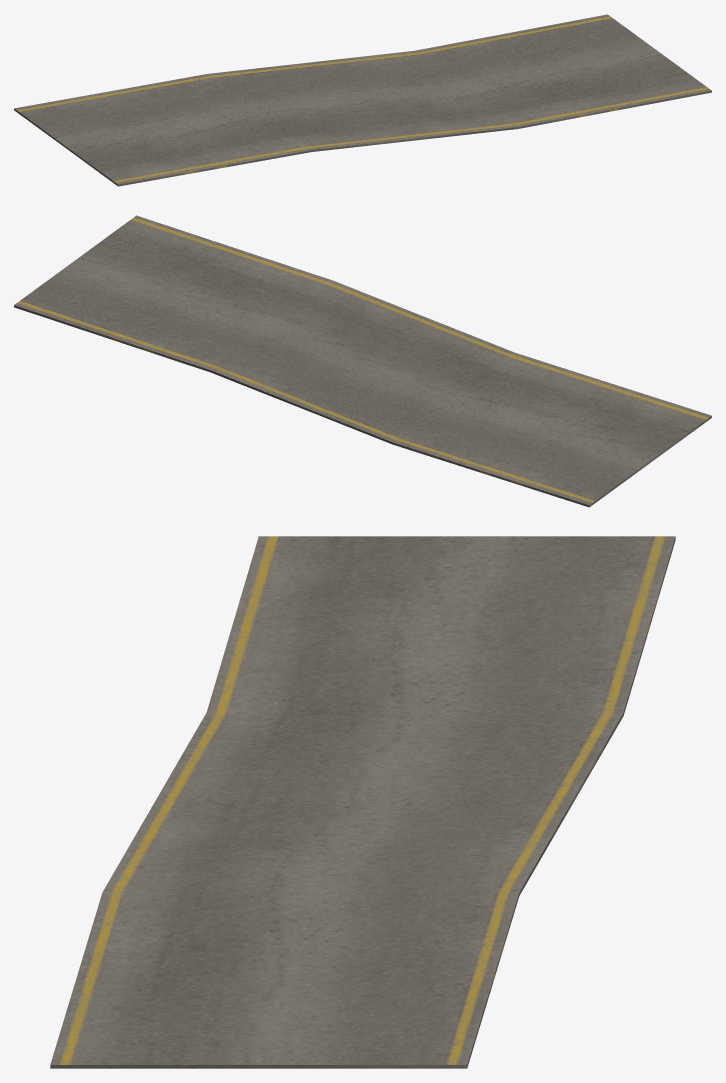
Rendered from Urban_Road2SheerNoSides_Model.fbx.
3 views of the same model, one above another, from view 1: azimuth 30°, elevation 25°; view 2: azimuth 150°, elevation 25°; view 3: azimuth 270°, elevation 25° (orthographic). The views are drawn at different scales.
Parts seen in each view (by area): view 1: Urban_Road2SheerNoSides_Mesh; view 2: Urban_Road2SheerNoSides_Mesh; view 3: Urban_Road2SheerNoSides_Mesh.
Boxes of the visible parts, x1,y1,x2,y2 form: Urban_Road2SheerNoSides_Mesh: [14, 14, 711, 186]; Urban_Road2SheerNoSides_Mesh: [14, 215, 711, 507]; Urban_Road2SheerNoSides_Mesh: [50, 536, 675, 1068].
Size of the model in its own units: 48 by 0.32 by 24.
